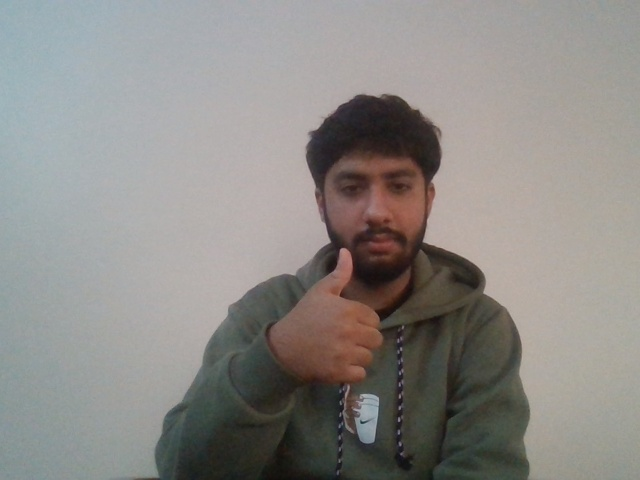Yes: (283, 238, 385, 386)
